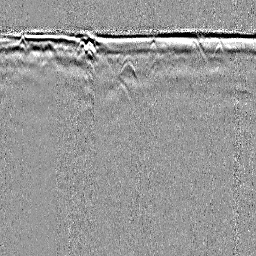cavity: (118, 58, 139, 80)
